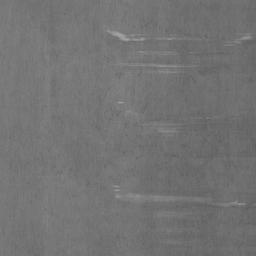Waist folding: (106, 29, 228, 78), (113, 183, 256, 208), (117, 109, 197, 137), (145, 216, 199, 234), (165, 151, 256, 161), (228, 32, 256, 45), (191, 114, 234, 120)
